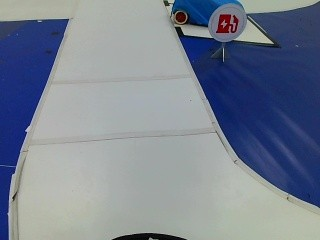battery: (210, 5, 242, 41)
car: (166, 0, 244, 28)
